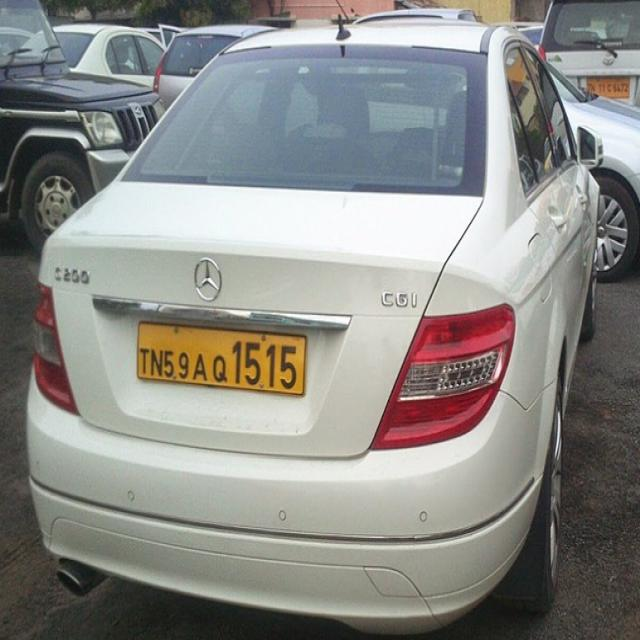number_plate: (134, 310, 308, 401)
